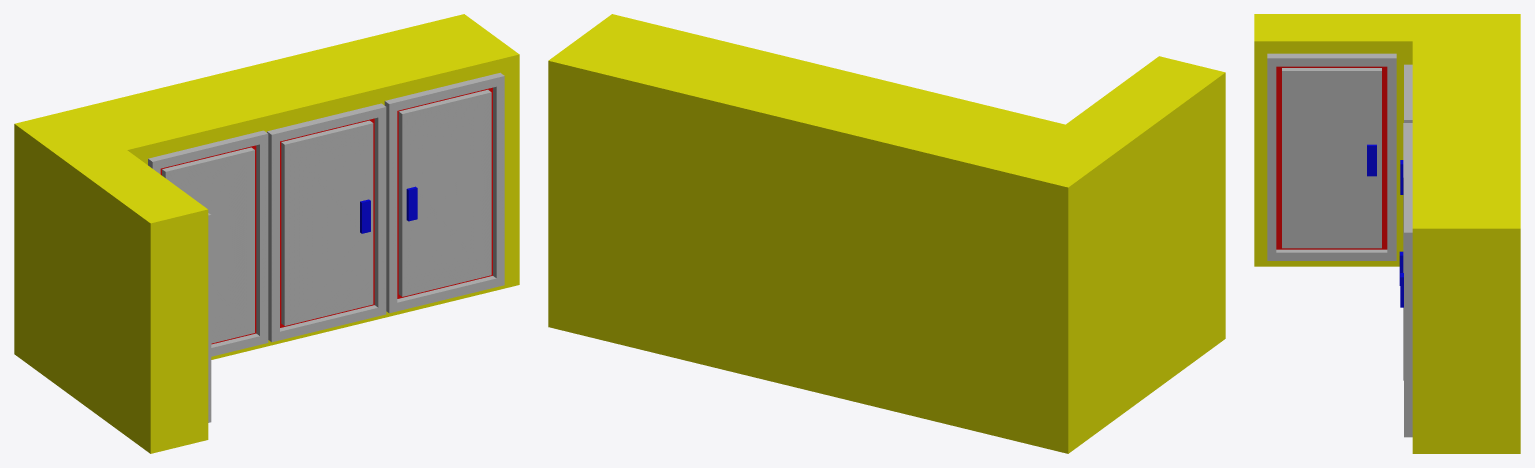
The model's file is Big_Armoire3.fbx.
3 views of the same model, side by side, from view 1: azimuth 30°, elevation 25°; view 2: azimuth 150°, elevation 25°; view 3: azimuth 270°, elevation 25° (orthographic). The views are drawn at different scales.
Visible parts, largest first — view 1: pCube139; view 2: pCube139; view 3: pCube139.
Boxes of the visible parts, <box> form: pCube139: <box>14,14,519,453</box>; pCube139: <box>548,14,1225,453</box>; pCube139: <box>1254,14,1520,453</box>.
Bounding box in the file's own units: 324 × 159 × 170.
